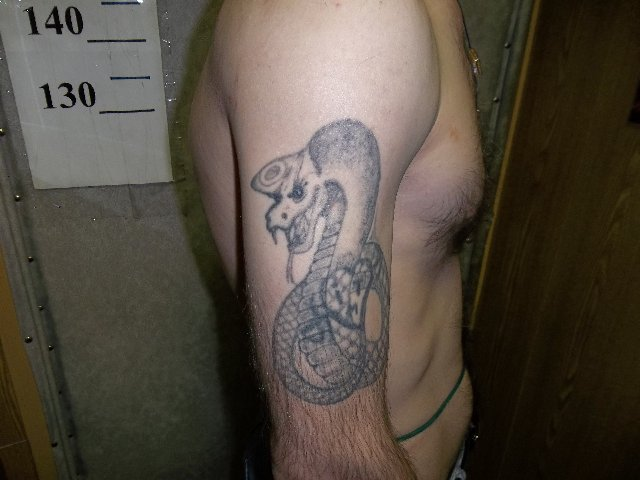tatu7_zmeya: (236, 117, 404, 413)
